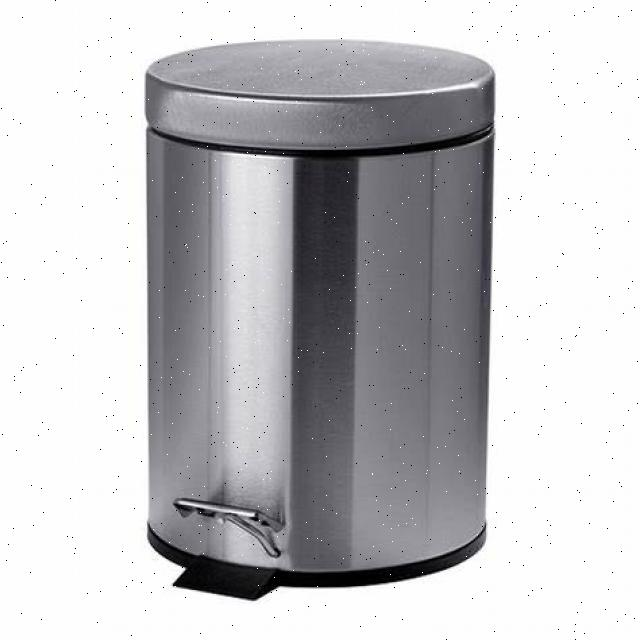garbage container: (105, 26, 534, 606)
